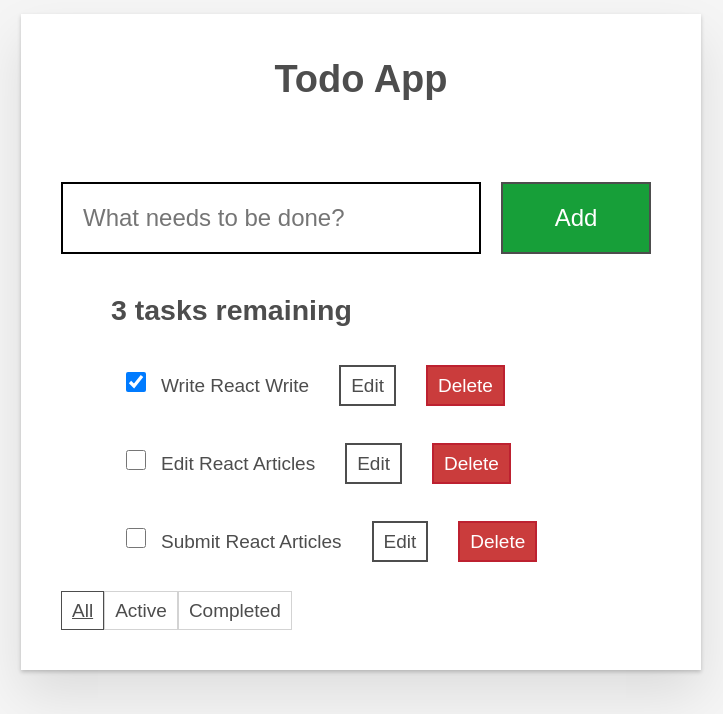
Test: user can add a todo and see it in the list
Type "Write React Article" into the field with placeholder "What needs to be done?" at (271,218), box [61,182,481,254]
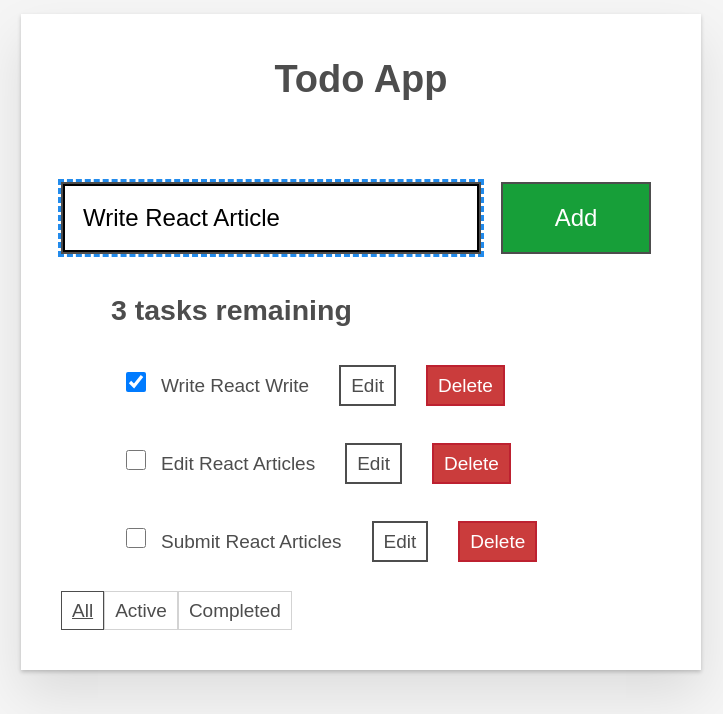
Click the button "Add" at (576,218), box [501,182,651,254]
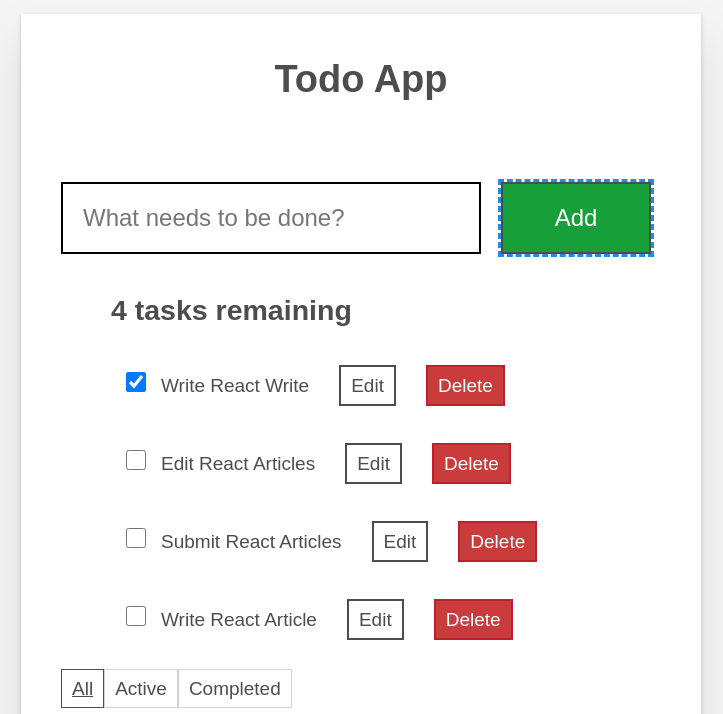
Expected: the text "Write React Article" is shown, [161,609,317,630]
